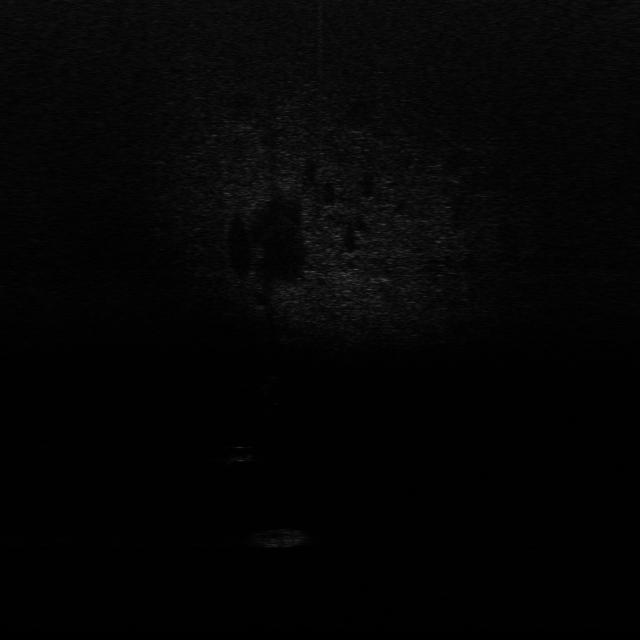ball: (224, 441, 256, 464)
circle cage: (244, 522, 310, 548)
human body: (252, 368, 287, 404)
